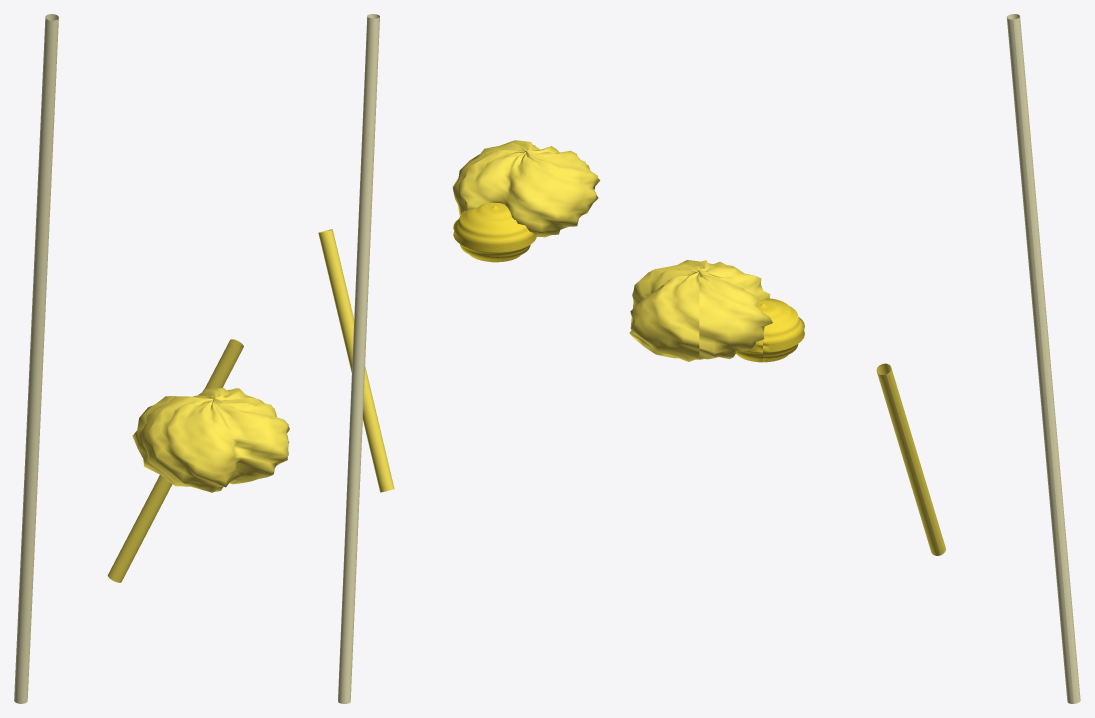
Rendered from nervous.glb.
The picture shows the model from 3 angles, left to right: view 1: azimuth 30°, elevation 25°; view 2: azimuth 150°, elevation 25°; view 3: azimuth 270°, elevation 25°; orthographic projection. The views are drawn at different scales.
Visible parts, largest first — view 1: Mesh_Canine_Cerebrum, Mesh_Canine_MedullaSpinalis_IVDD, Mesh_Canine_PlexusBrachialis; view 2: Mesh_Canine_Cerebrum, Mesh_Canine_MedullaSpinalis_IVDD, Mesh_Canine_Cerebellum, Mesh_Canine_PlexusBrachialis; view 3: Mesh_Canine_Cerebrum, Mesh_Canine_MedullaSpinalis_IVDD, Mesh_Canine_PlexusBrachialis, Mesh_Canine_Cerebellum.
Part boxes in pixels (<box>): Mesh_Canine_Cerebrum: <box>132,387,289,492</box>; Mesh_Canine_MedullaSpinalis_IVDD: <box>14,14,58,703</box>; Mesh_Canine_PlexusBrachialis: <box>107,339,243,582</box>; Mesh_Canine_Cerebrum: <box>452,140,600,237</box>; Mesh_Canine_MedullaSpinalis_IVDD: <box>338,14,379,703</box>; Mesh_Canine_Cerebellum: <box>453,203,536,262</box>; Mesh_Canine_PlexusBrachialis: <box>318,229,394,492</box>; Mesh_Canine_Cerebrum: <box>629,260,772,361</box>; Mesh_Canine_MedullaSpinalis_IVDD: <box>1006,14,1080,703</box>; Mesh_Canine_PlexusBrachialis: <box>876,363,945,555</box>; Mesh_Canine_Cerebellum: <box>736,298,804,362</box>.
Size of the model in its own units: 0.4014 by 1.43 by 0.8519.
